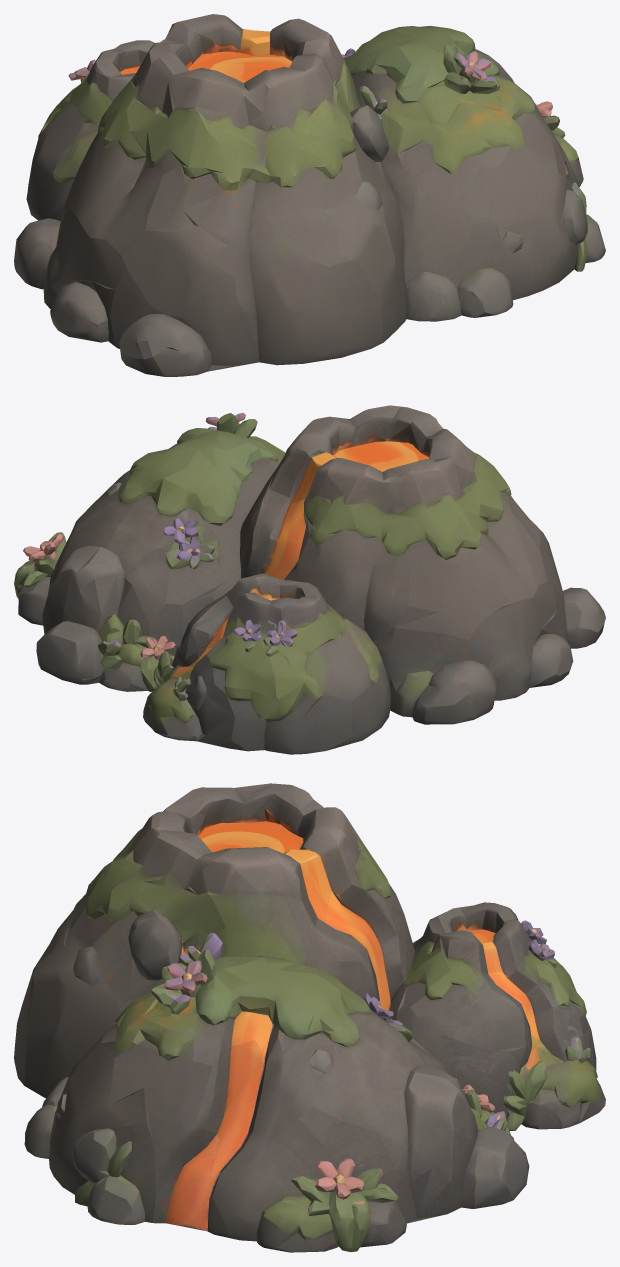
Rendered from volcanicRock.glb.
The picture shows the model from 3 angles, top to bottom: view 1: azimuth 30°, elevation 25°; view 2: azimuth 150°, elevation 25°; view 3: azimuth 270°, elevation 25°; orthographic projection. The views are drawn at different scales.
Parts seen in each view (by area): view 1: Mesh_0; view 2: Mesh_0; view 3: Mesh_0.
Boxes of the visible parts, x1,y1,x2,y2 form: Mesh_0: [14, 14, 605, 376]; Mesh_0: [14, 405, 605, 754]; Mesh_0: [14, 783, 605, 1252].
Bounding box in the file's own units: 1.2 × 0.4808 × 1.03.
1 material, 1 textured.
